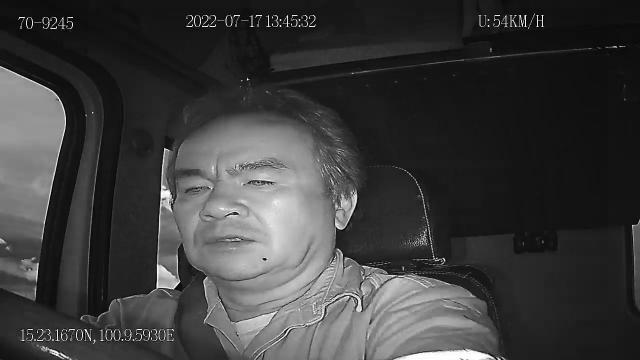SafeDriving: (235, 167, 287, 194)
Seatbelt: (174, 272, 232, 360)
